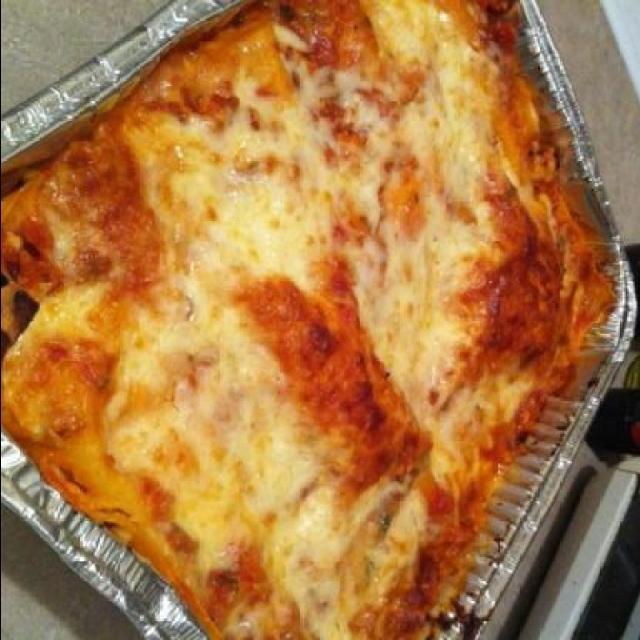Lasagna: (1, 2, 608, 640)
